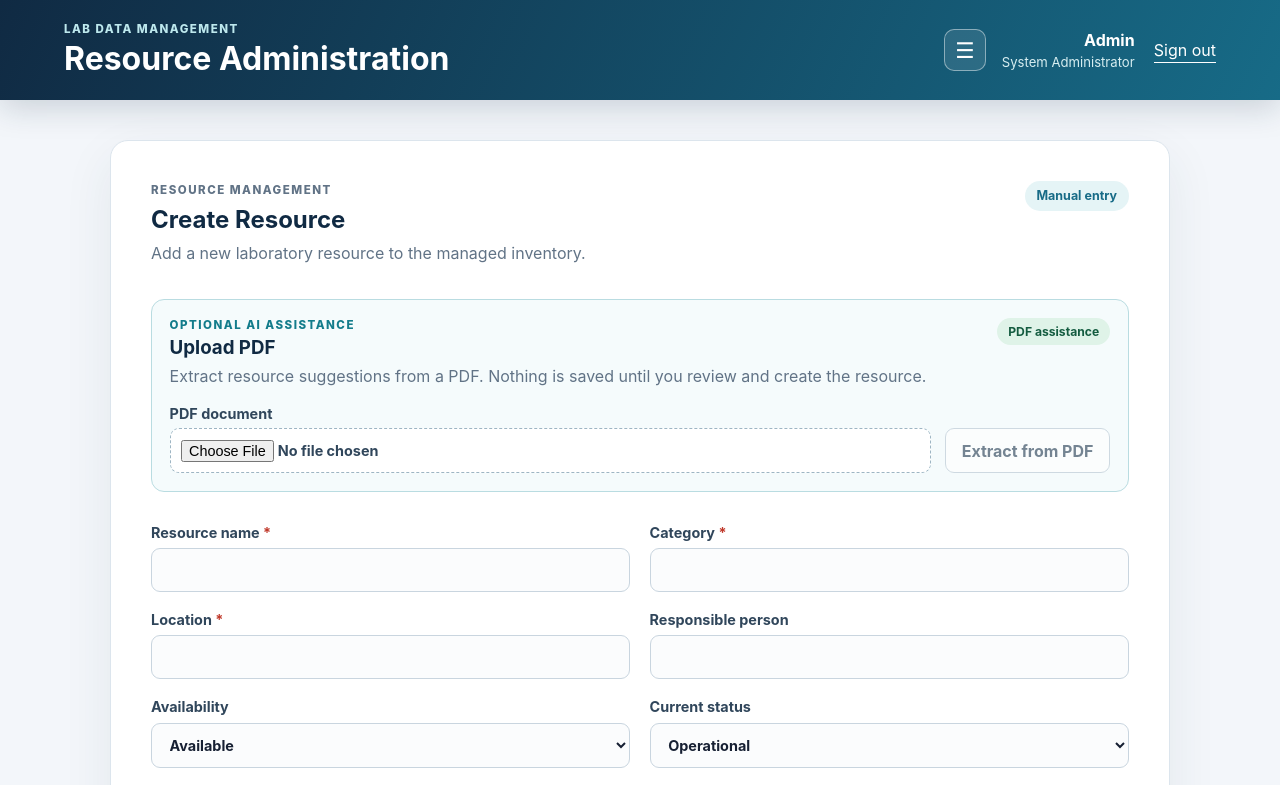
App authorization UI › lets an administrator open resource editing from navigation
The width and height of the screenshot is (1280, 785).
Click the button named "open navigation" at (965, 50), box [944,29,986,71]
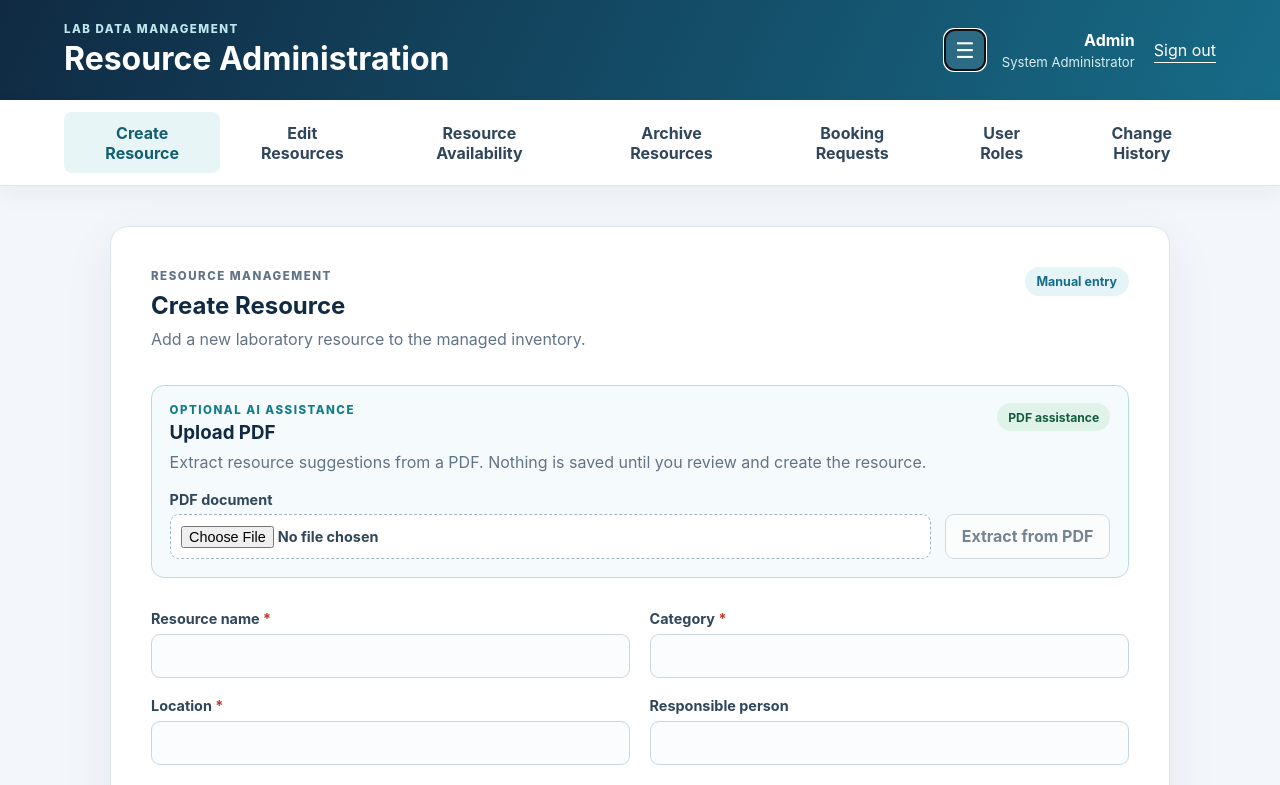
Click the button "Edit Resources" at (302, 143), box [231,112,374,173]
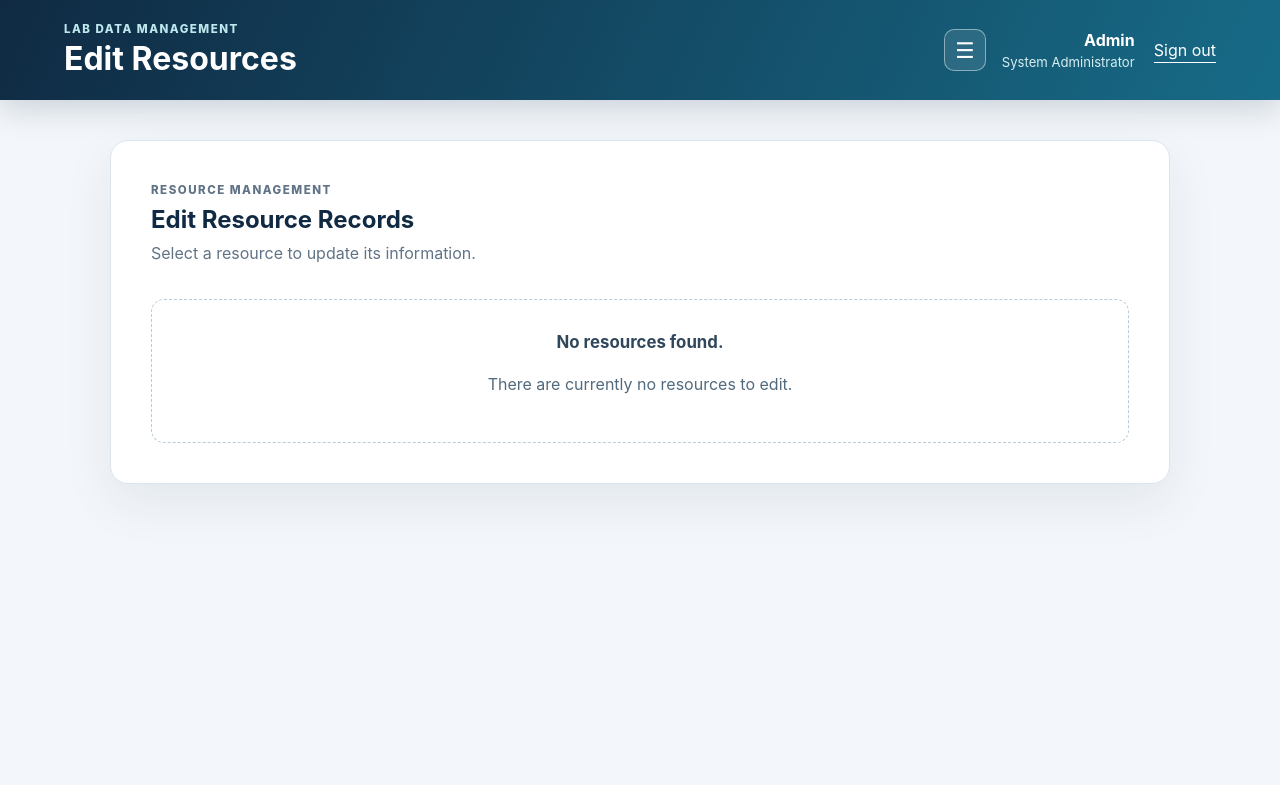
expect the heading "Edit Resources" is shown: met, box [64,39,297,78]
expect the heading "Edit Resource Records" is shown: met, box [151,205,414,234]
expect the text "No resources found." is shown: met, box [556,332,724,352]
